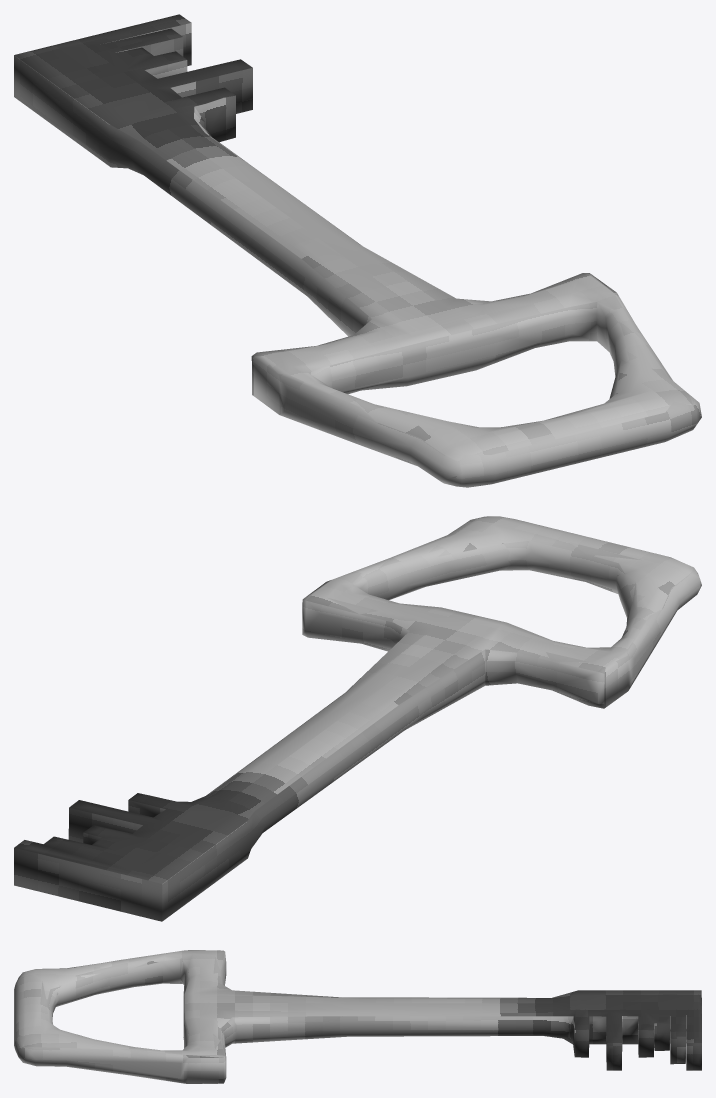
Rendered from keye.glb.
The picture shows the model from 3 angles, top to bottom: view 1: azimuth 30°, elevation 25°; view 2: azimuth 150°, elevation 25°; view 3: azimuth 270°, elevation 25°; orthographic projection. The views are drawn at different scales.
Parts seen in each view (by area): view 1: Cube; view 2: Cube; view 3: Cube.
Part boxes in pixels (box(x1,y1,x2,y2)): Cube: box(14, 14, 701, 487); Cube: box(14, 516, 701, 921); Cube: box(14, 950, 701, 1083).
Size of the model in its own units: 1.59 by 0.2026 by 4.3.
1 material, 1 textured.
